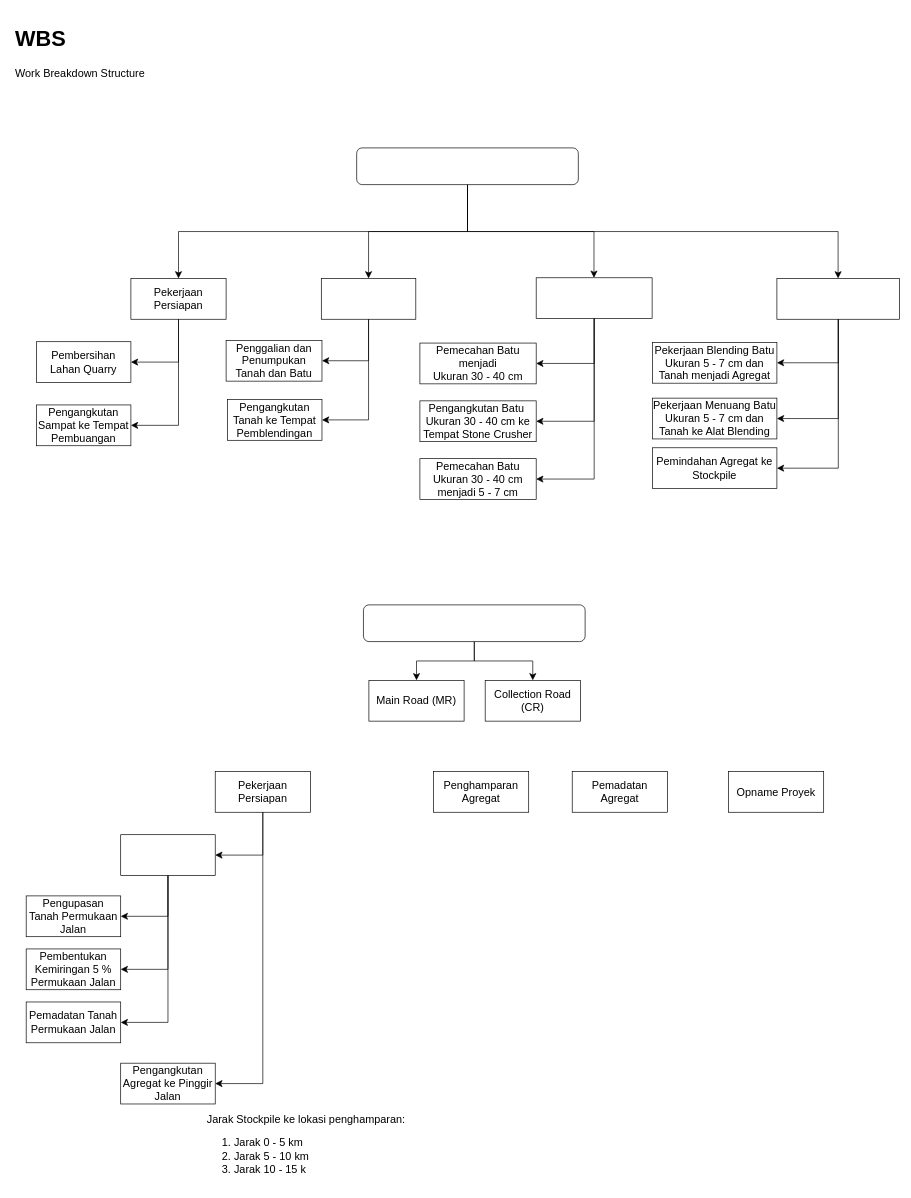
The diagram is 911 pixels wide and 1198 high, and some of its shapes have lost their labels. The centre of each missing label's shape, as x and y in pixels:
"Pekerjaan Pemblendingan Batu dengan Tanah" belongs at (x=838, y=298).
"Pekerjaan Pemecahan Material Batu" belongs at (x=594, y=298).
"Pekerjaan Pemecahan Material Batu di Susuk Estate dan Sungai Petar Estate" belongs at (x=467, y=166).
"Pekerjaan Penambangan Material Batu" belongs at (x=368, y=298).
"Pekerjaan Pengerasan Jalan di Susuk Estate dan Sungai Petar Estate" belongs at (x=474, y=623).
"Pembentukan Badan Jalan" belongs at (x=167, y=855).
